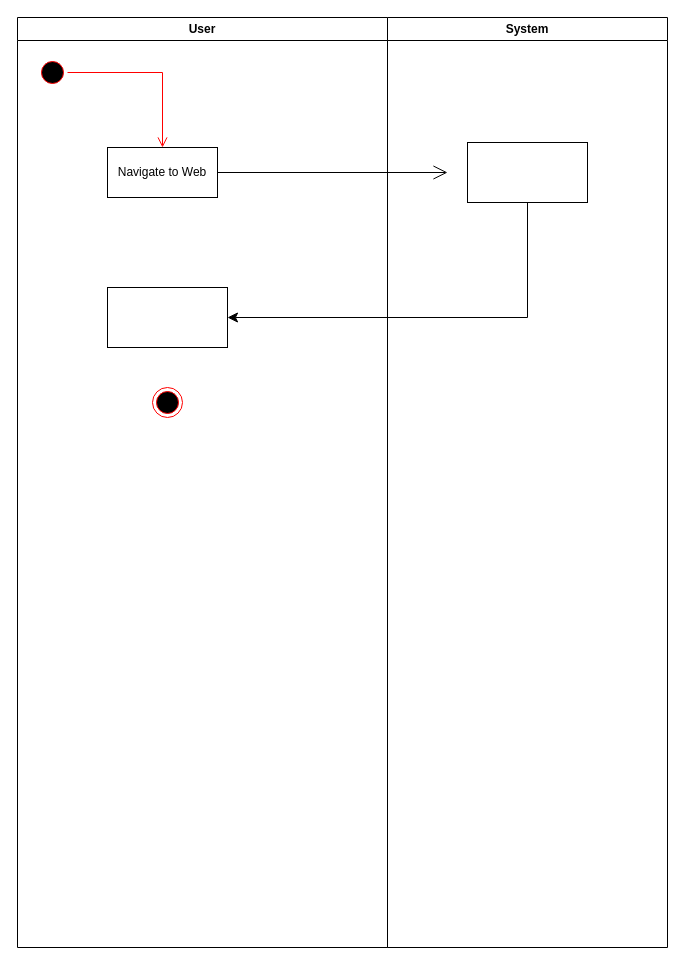
Image size: 685x965. Some labels were removed from this diagram. Each missing label, with the centre of its shape:
"Menampillkan menu utama" goes at (527,172).
"Pilih menu yang ada" goes at (167,317).
